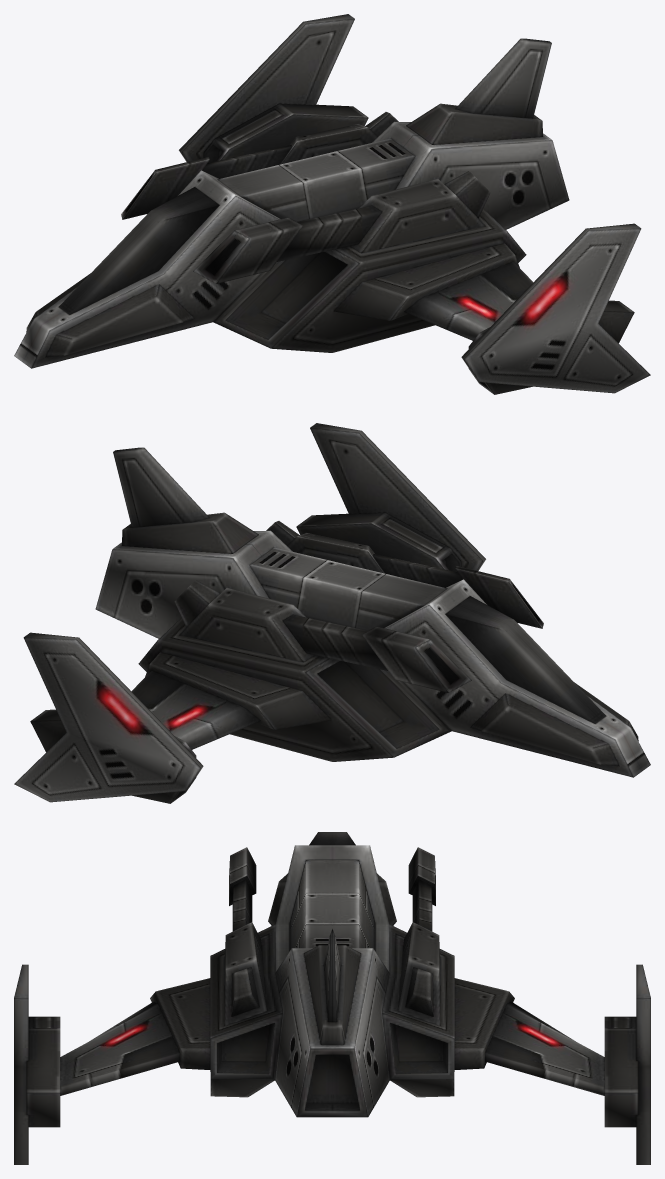
3 views of the same model, one above another, from view 1: azimuth 30°, elevation 25°; view 2: azimuth 150°, elevation 25°; view 3: azimuth 270°, elevation 25° (orthographic). The views are drawn at different scales.
Parts seen in each view (by area): view 1: small_space_ship_8; view 2: small_space_ship_8; view 3: small_space_ship_8.
Boxes of the visible parts, left/top/right/bottom form: small_space_ship_8: left=14, top=14, right=650, bottom=394; small_space_ship_8: left=14, top=423, right=650, bottom=803; small_space_ship_8: left=14, top=832, right=650, bottom=1164.
Bounding box in the file's own units: 52.26 × 22.45 × 50.01.
Materials: 1 (1 with a texture image).
